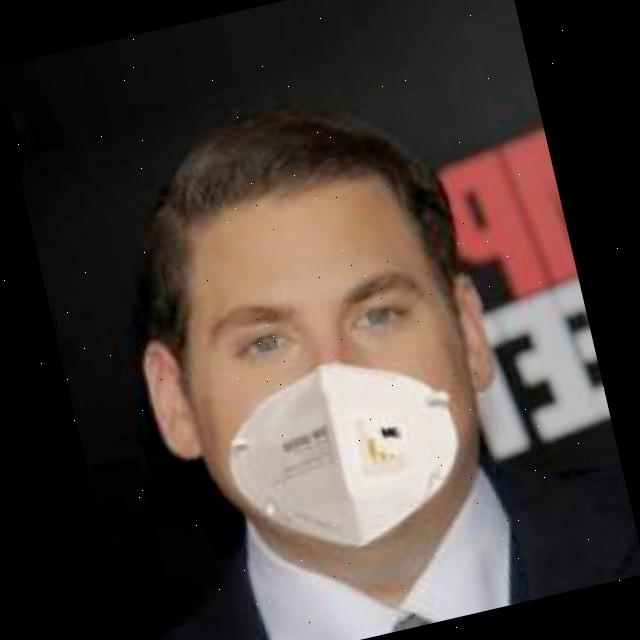suspicion: (84, 52, 572, 619)
